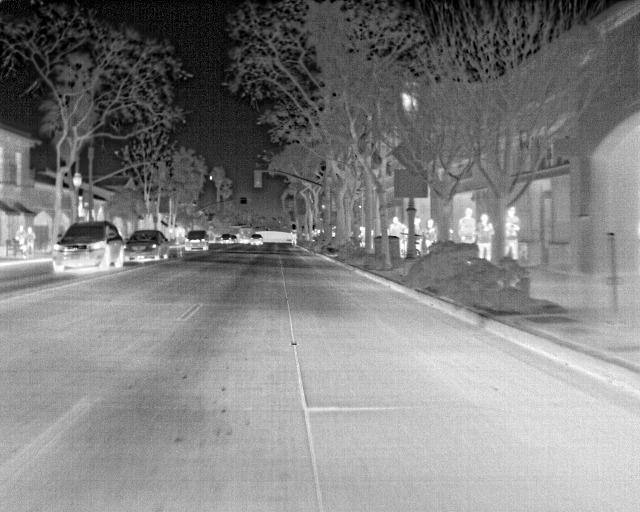bicycle: (50, 220, 125, 276), (125, 228, 170, 263), (181, 228, 211, 254), (249, 233, 267, 248), (219, 233, 236, 246)
empty: (383, 214, 409, 257), (506, 205, 522, 260), (476, 211, 493, 261), (458, 205, 479, 243), (22, 225, 39, 256), (422, 217, 437, 249), (12, 224, 27, 255)
